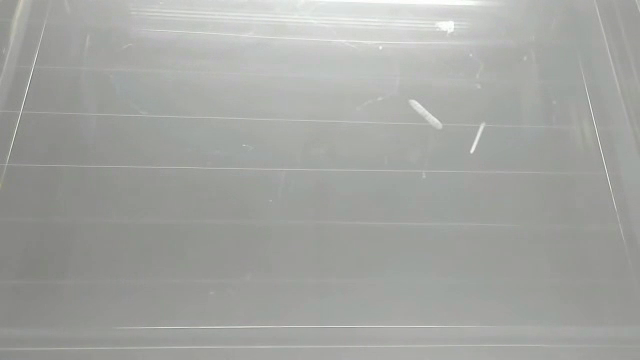alpha: (405, 96, 446, 133), (466, 119, 488, 156), (434, 18, 458, 36)
